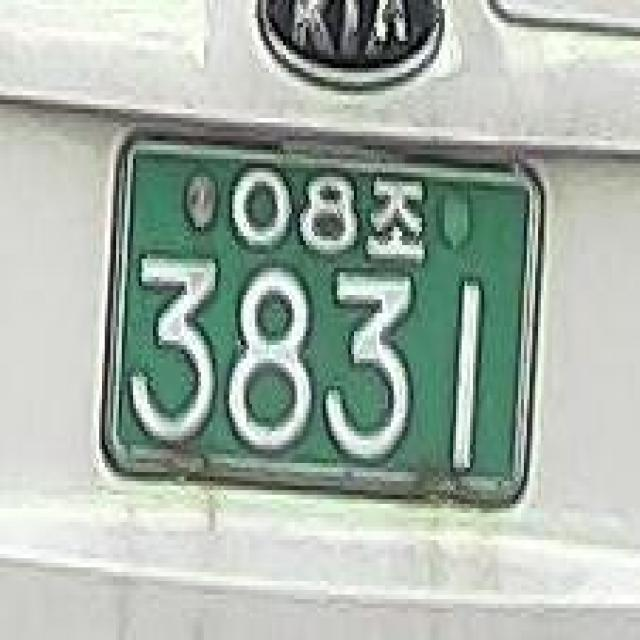illegal_plate: (87, 110, 560, 542)
